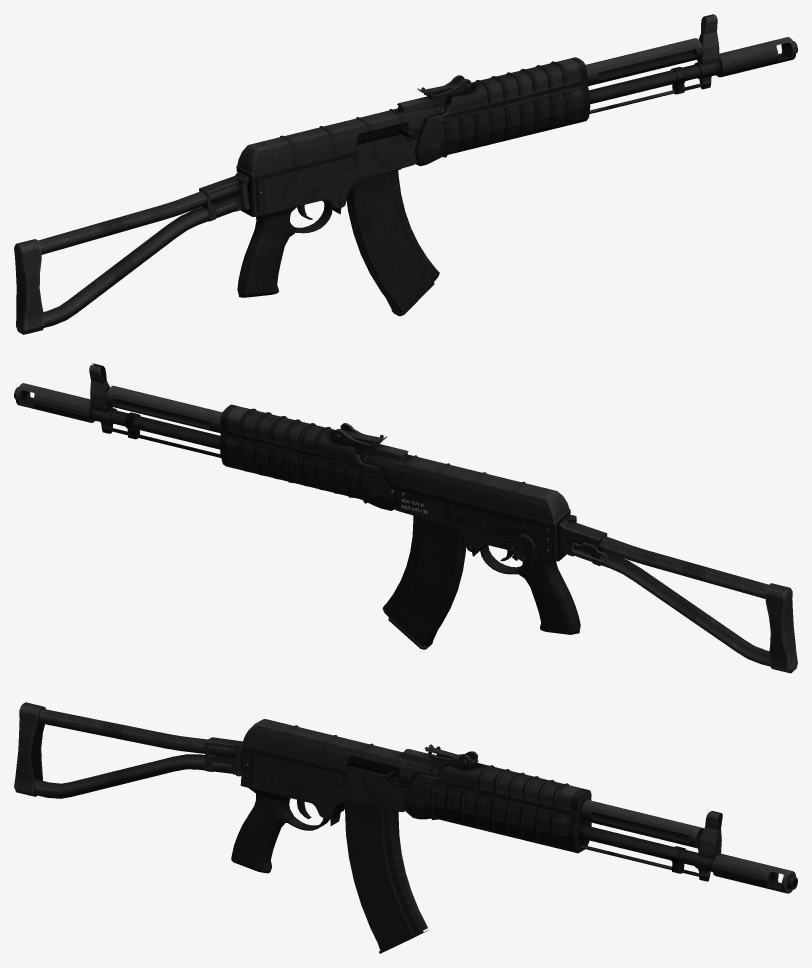
The picture shows the model from 3 angles, top to bottom: view 1: azimuth 30°, elevation 25°; view 2: azimuth 150°, elevation 25°; view 3: azimuth 330°, elevation 25°; orthographic projection.
Bounding box in the file's own units: 2.5 × 0.6522 × 0.13.
1 material, 1 textured.
